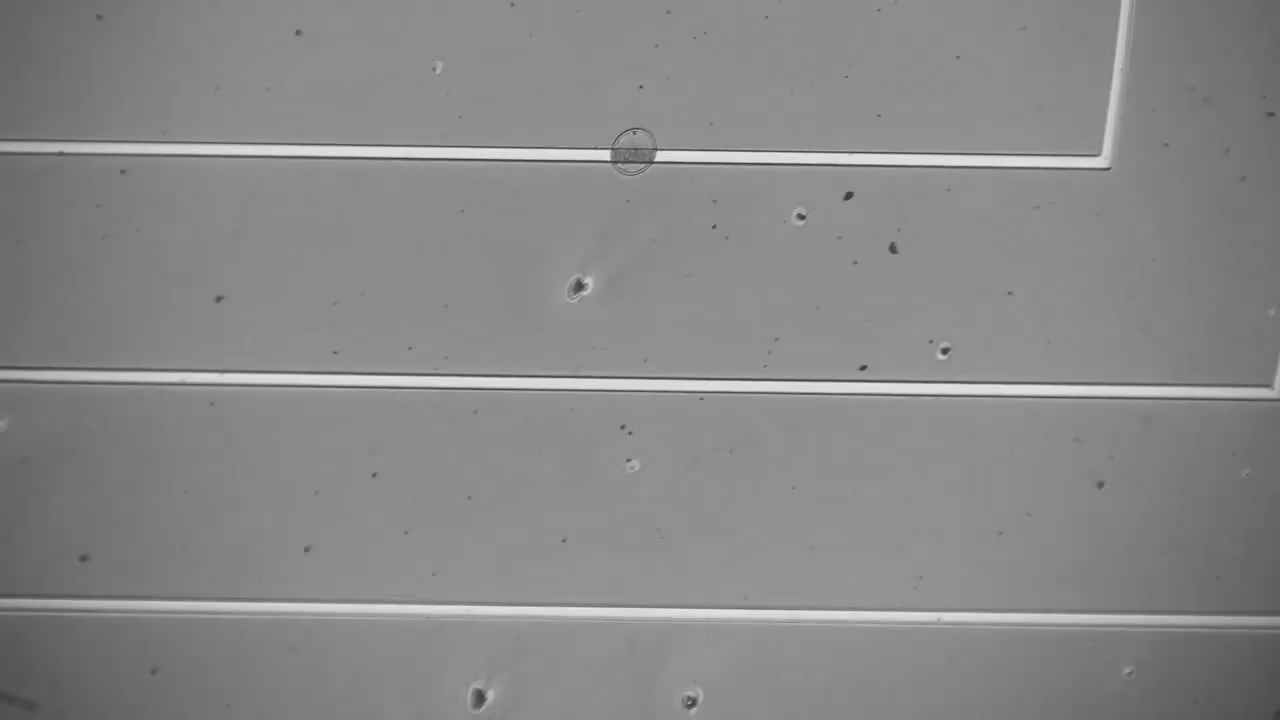gray_line: (594, 137, 673, 172)
